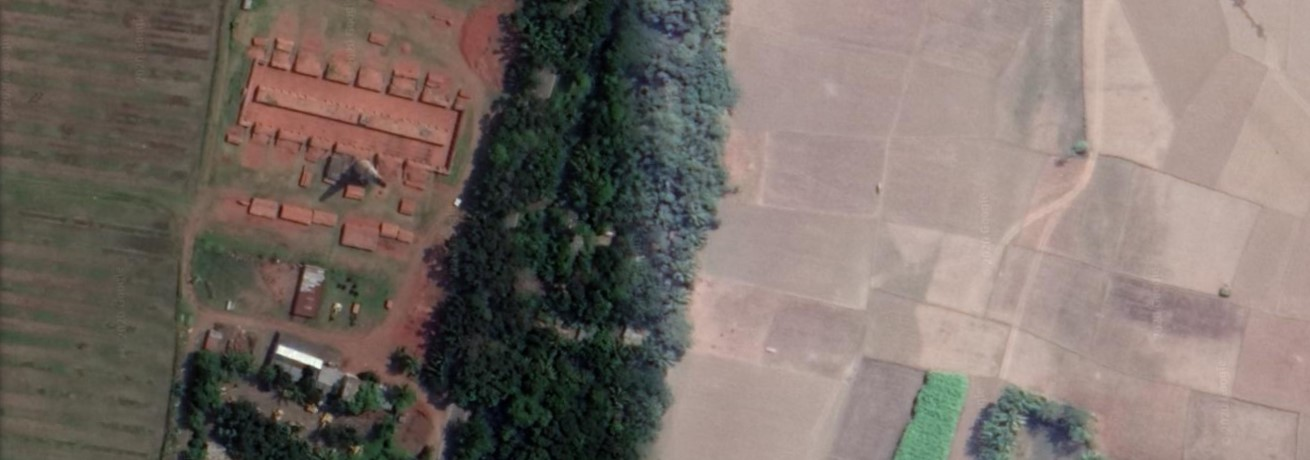kiln: (243, 40, 456, 223)
